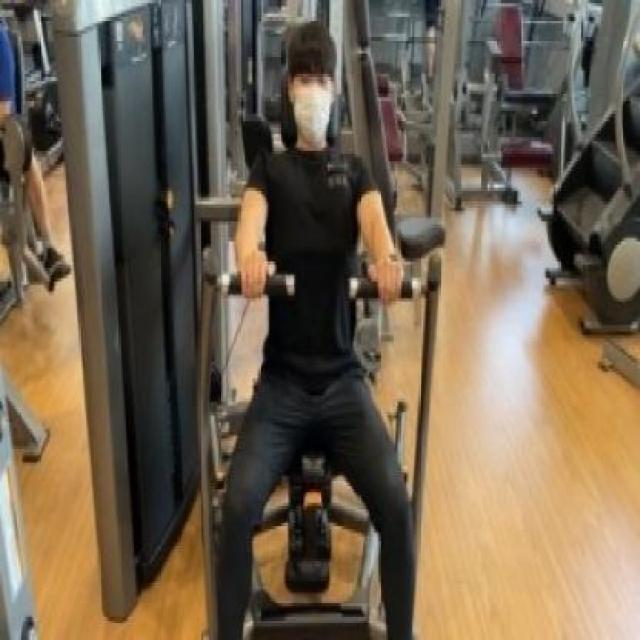Chest Press machine: (52, 0, 451, 640)
